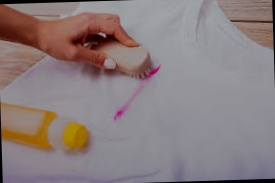lipstick: (112, 104, 129, 123), (146, 64, 160, 82), (133, 86, 141, 97)
